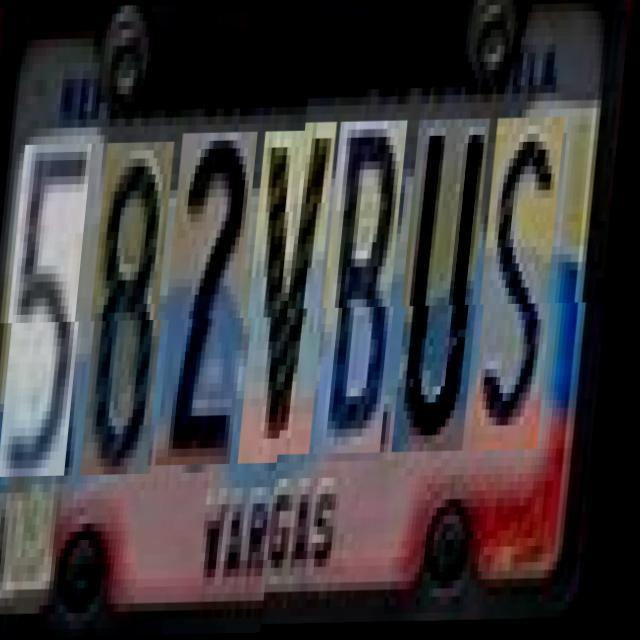2: (164, 134, 264, 466)
5: (7, 144, 99, 477)
8: (90, 142, 182, 476)
B: (322, 130, 414, 463)
S: (478, 128, 570, 461)
U: (400, 130, 496, 462)
V: (247, 132, 343, 465)
